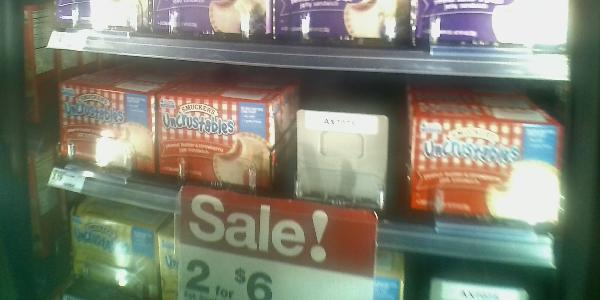icecream: (405, 112, 571, 228), (156, 81, 281, 203), (51, 77, 156, 180)
